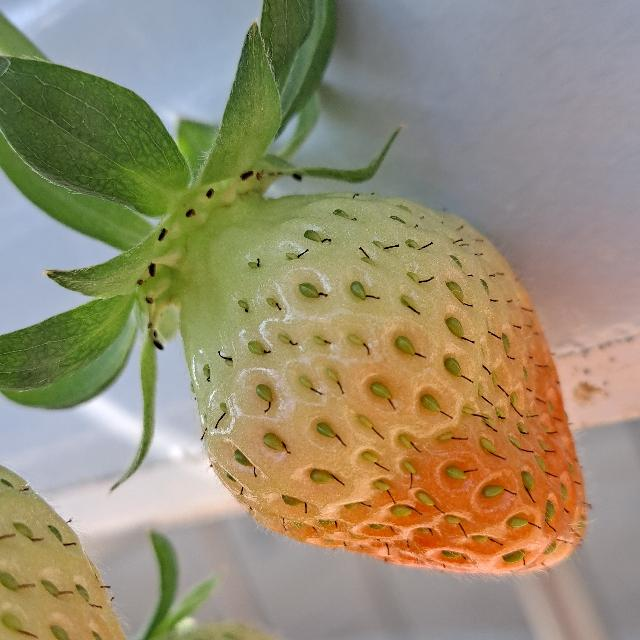Health_50: (178, 192, 586, 574)
